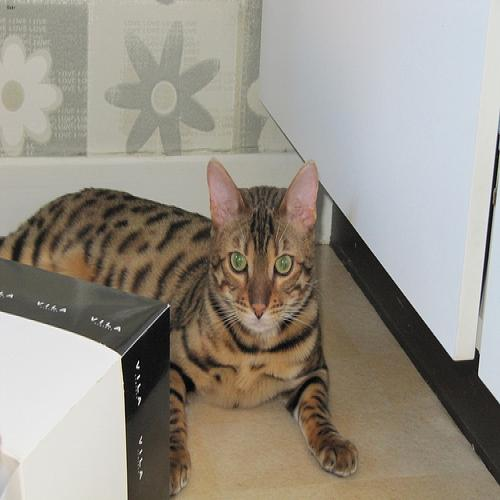bengal: (206, 157, 326, 335)
